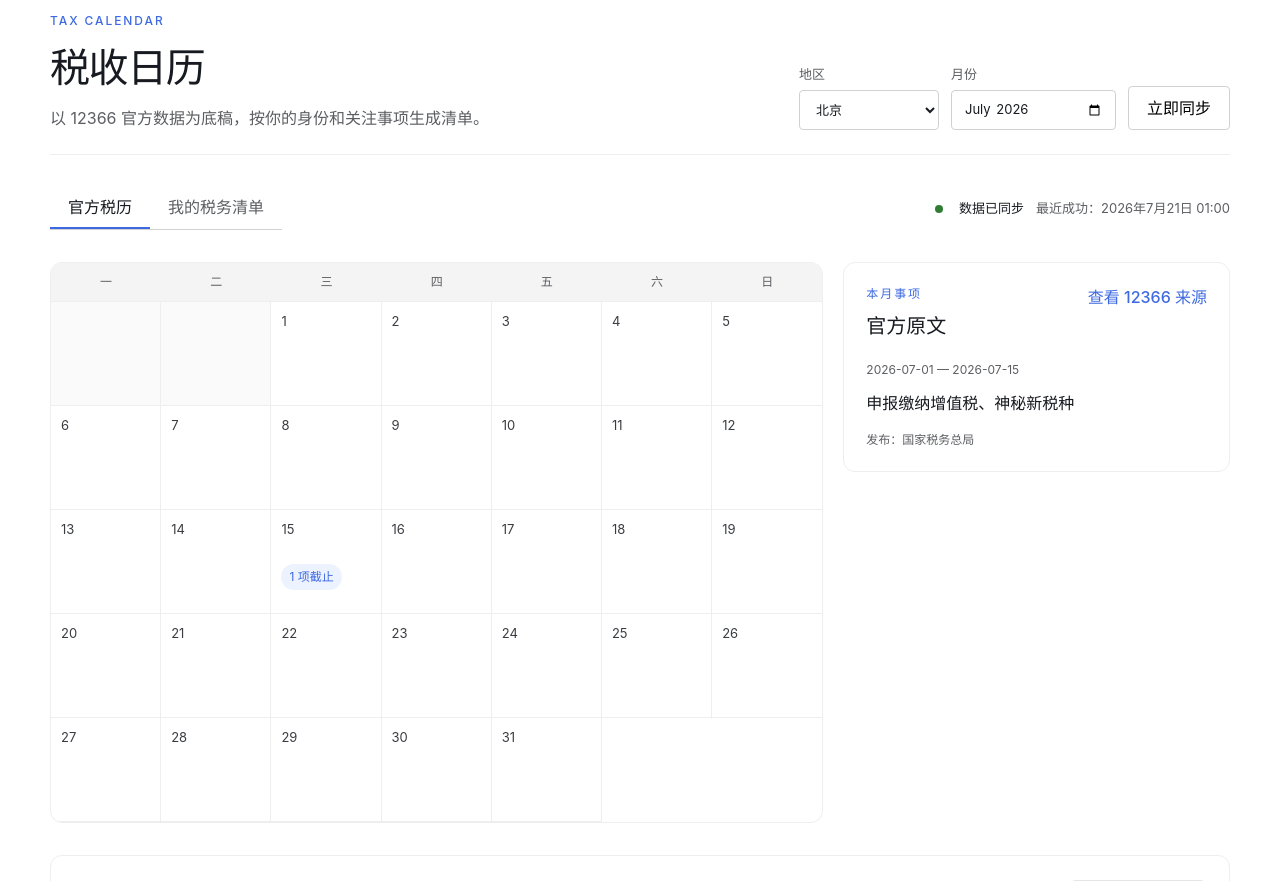
shows official bssz verbatim and unknown personalized items for confirmation
The width and height of the screenshot is (1280, 881).
expect the text "申报缴纳增值税、神秘新税种" is shown: met, box left=866, top=393, right=1074, bottom=413
Click the tab "我的税务清单". click: {"x": 216, "y": 208}
box: left=150, top=187, right=282, bottom=229
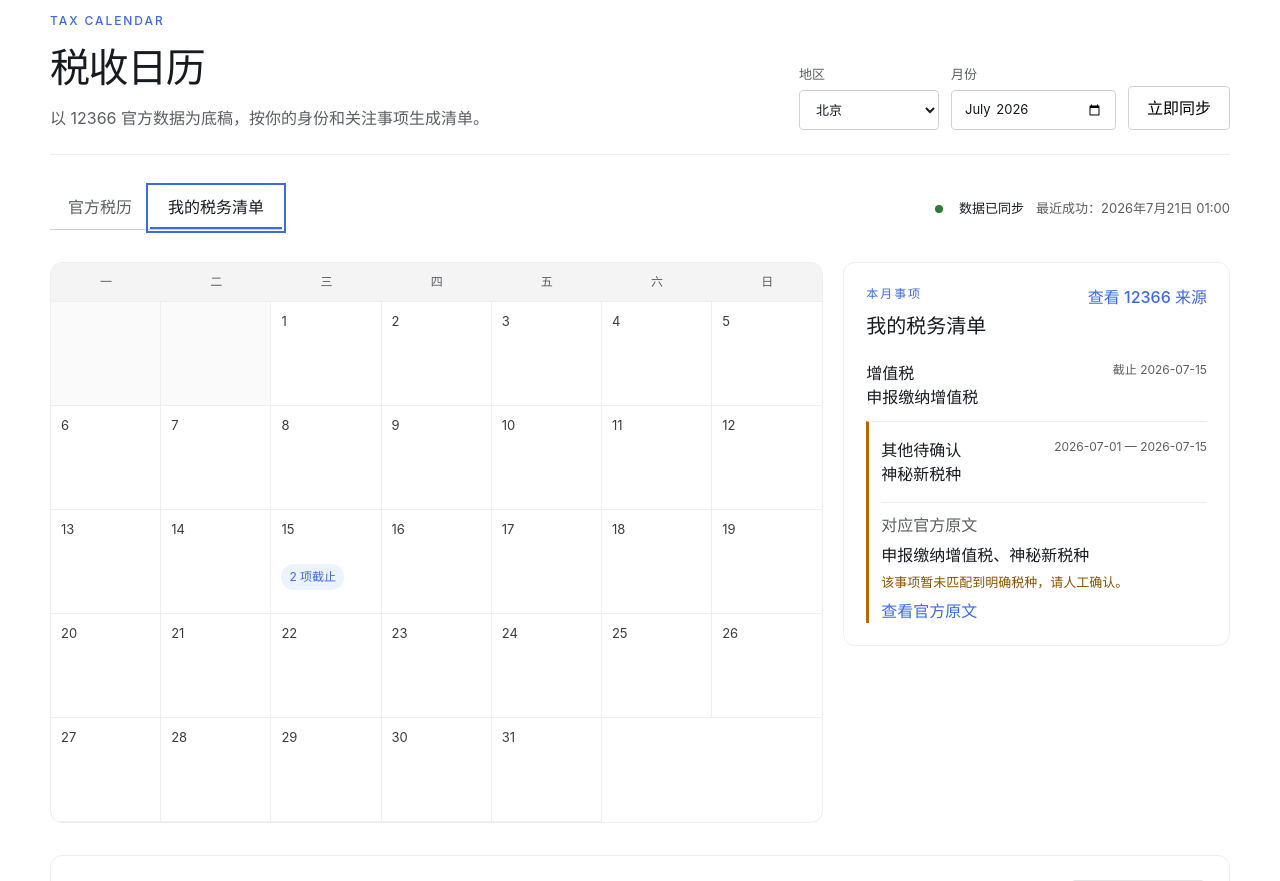
expect the text "其他待确认" is shown: met, box left=881, top=438, right=961, bottom=462
expect the text "神秘新税种" is shown: met, box left=881, top=464, right=961, bottom=484
expect the text "增值税" is shown: met, box left=866, top=361, right=914, bottom=385
